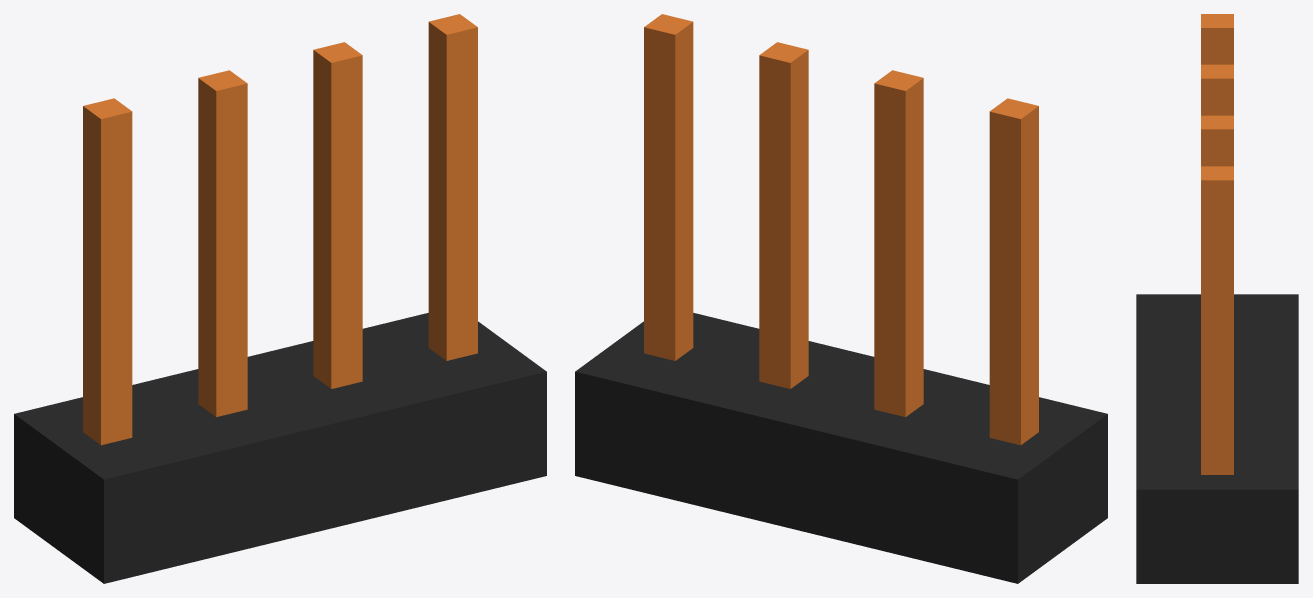
File: InputMini_4x.fbx
3 views of the same model, side by side, from view 1: azimuth 30°, elevation 25°; view 2: azimuth 150°, elevation 25°; view 3: azimuth 270°, elevation 25° (orthographic). The views are drawn at different scales.
Parts seen in each view (by area): view 1: Input_Mini_4x; view 2: Input_Mini_4x; view 3: Input_Mini_4x.
Part boxes in pixels (x1,y1,x2,y2): Input_Mini_4x: (14, 14, 546, 583); Input_Mini_4x: (575, 14, 1107, 583); Input_Mini_4x: (1136, 14, 1298, 583).
Size of the model in its own units: 460 by 427 by 162.
